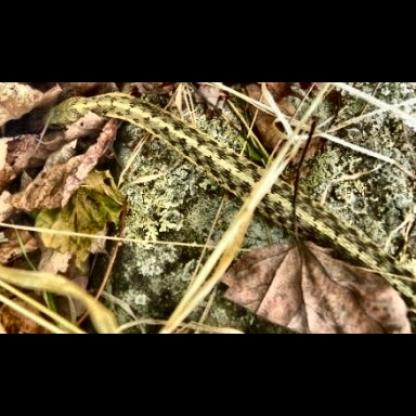Snake: (44, 93, 416, 317)
